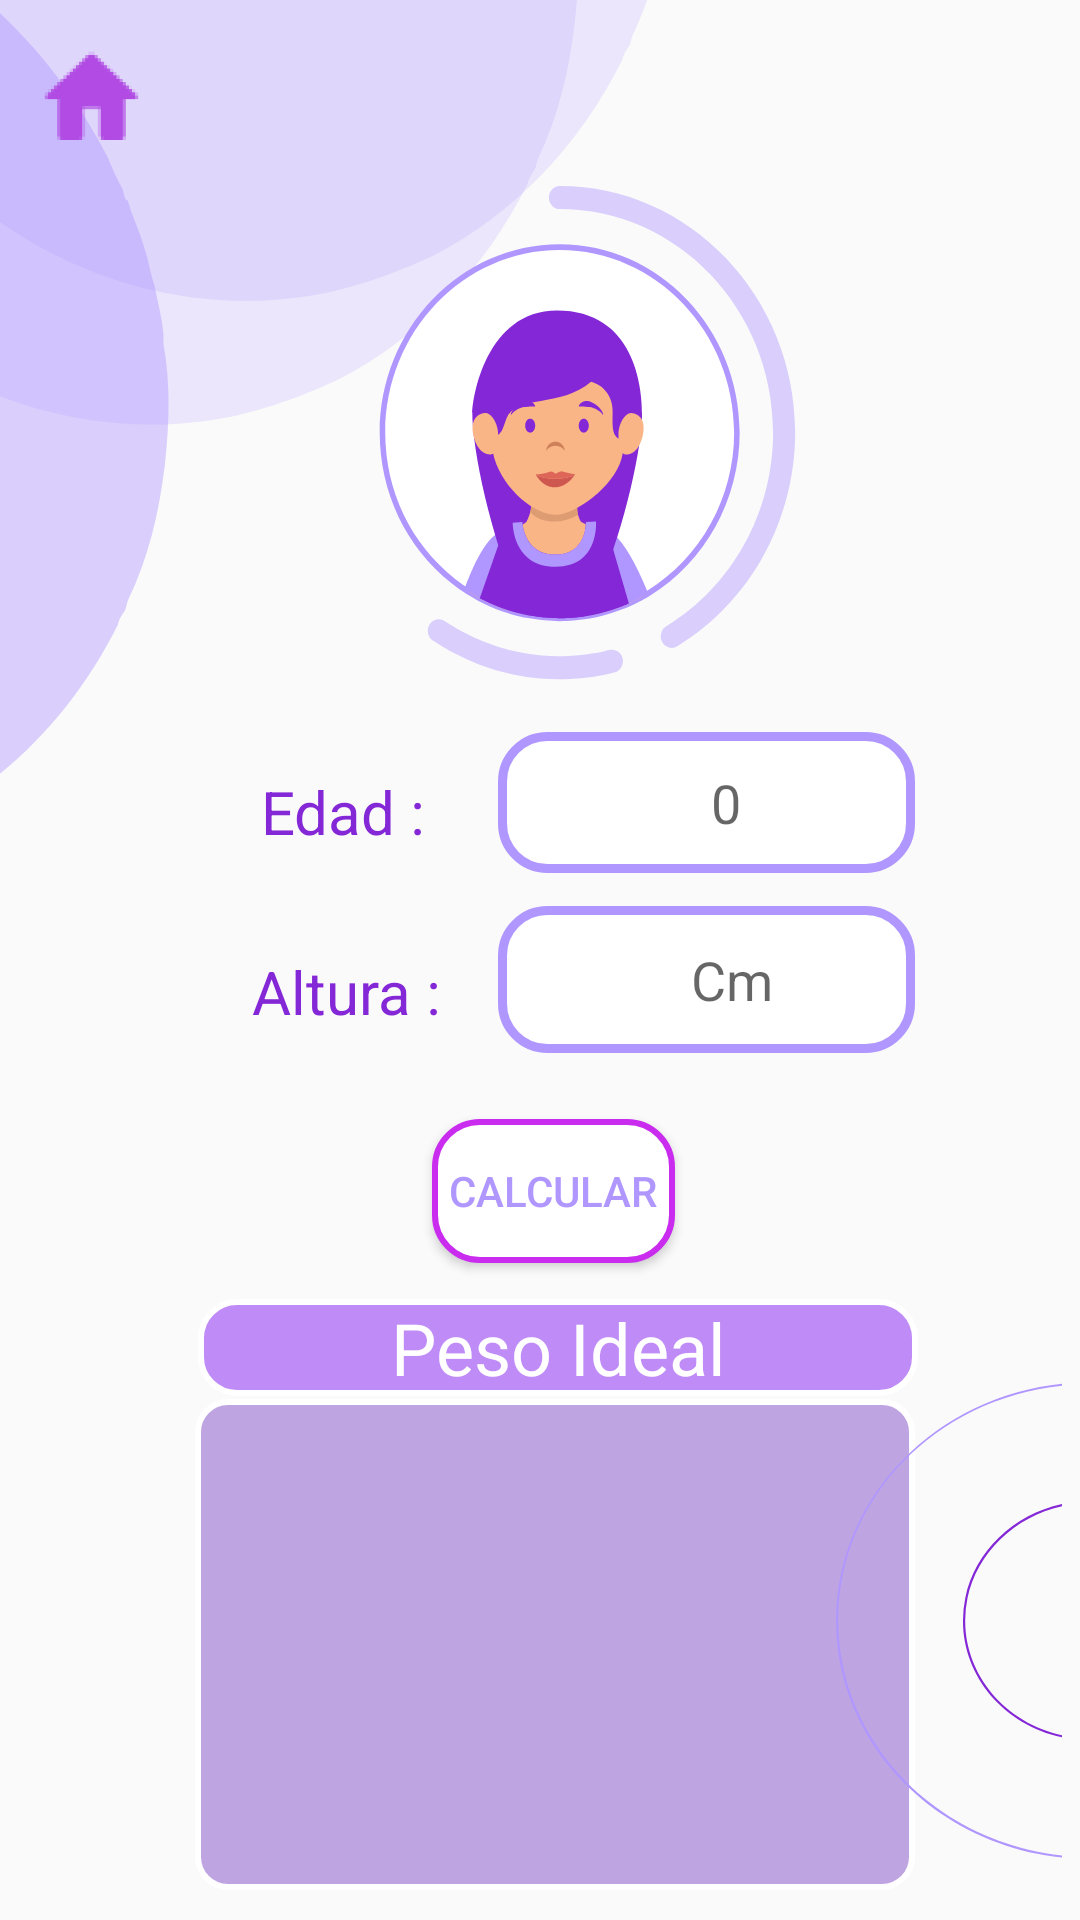

Icons on this 1080x1920 Android screen, each with the point to tap as (x=x, y=y):
inicio oficial: (x=73, y=104)
